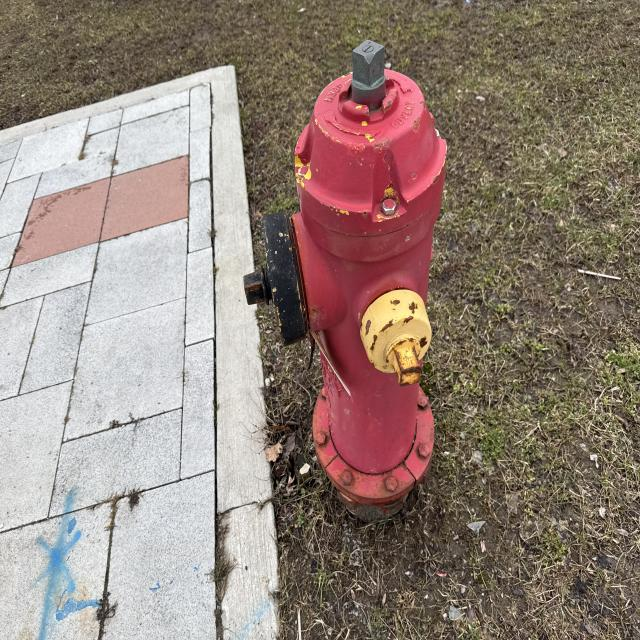Fire hydrant: (242, 39, 449, 519)
